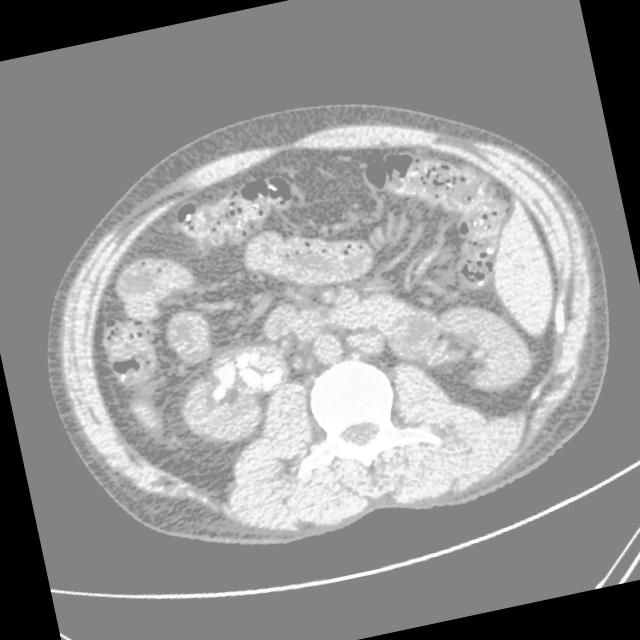STONE: (17, 75, 592, 517)
